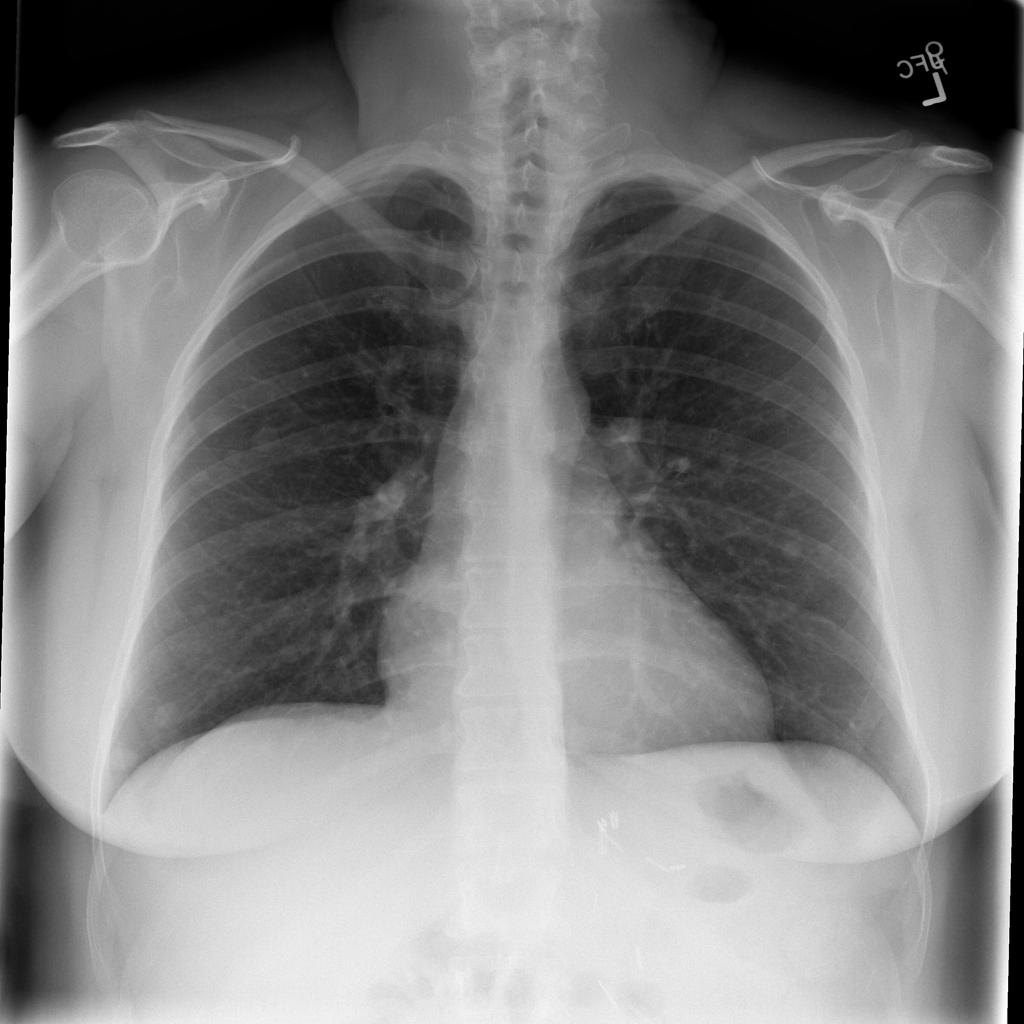nodule: (129, 686, 205, 748), (240, 413, 297, 464), (771, 521, 821, 572), (96, 739, 149, 785)
